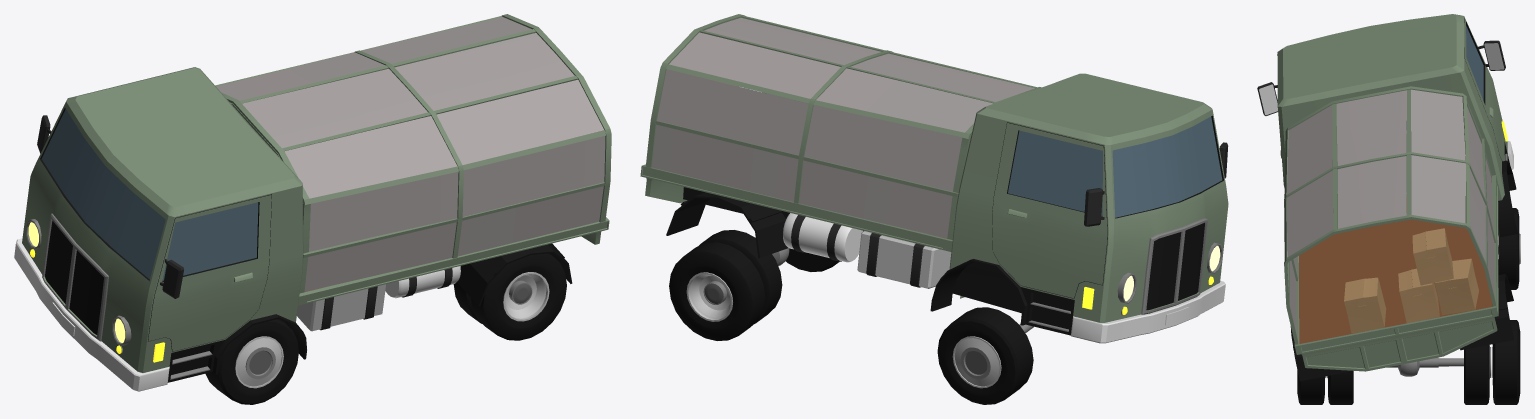
Rendered from car_heavy.fbx.
3 renders of one model, left to right at view 1: azimuth 30°, elevation 25°; view 2: azimuth 150°, elevation 25°; view 3: azimuth 270°, elevation 25°, orthographic. The views are drawn at different scales.
Parts seen in each view (by area): view 1: Truck2Low_TruckFlak2.001_0, Object; view 2: Truck2Low_TruckFlak2.001_0, Object; view 3: Truck2Low_TruckFlak2.001_0, Object.
Boxes of the visible parts, x1=… form: Truck2Low_TruckFlak2.001_0: x1=14, y1=14, x2=611, y2=391; Object: x1=205, y1=253, x2=566, y2=404; Truck2Low_TruckFlak2.001_0: x1=640, y1=14, x2=1228, y2=343; Object: x1=669, y1=230, x2=1033, y2=404; Truck2Low_TruckFlak2.001_0: x1=1257, y1=14, x2=1517, y2=381; Object: x1=1297, y1=208, x2=1520, y2=404.
Bounding box in the file's own units: 534 × 279 × 287.
